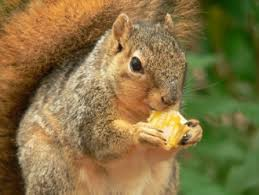Ardilla: (76, 13, 205, 165)
